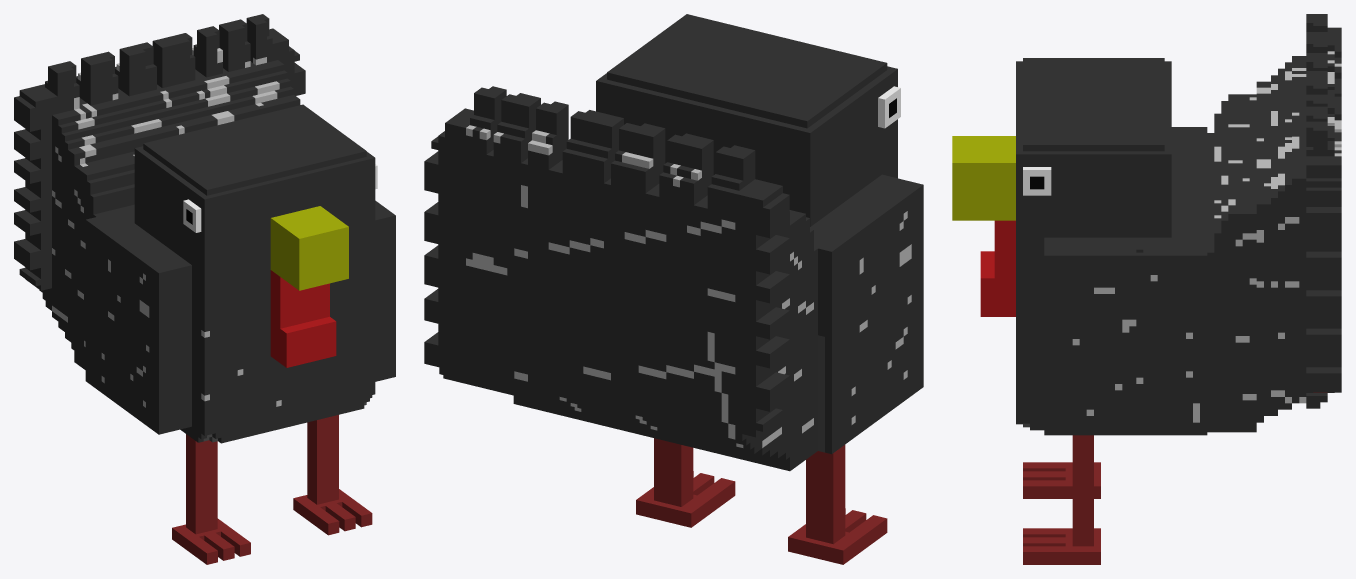
File: Guajolote.obj
3 renders of one model, left to right at view 1: azimuth 30°, elevation 25°; view 2: azimuth 150°, elevation 25°; view 3: azimuth 270°, elevation 25°, orthographic. The views are drawn at different scales.
Bounding box in the file's own units: 5 × 7 × 5.5.
